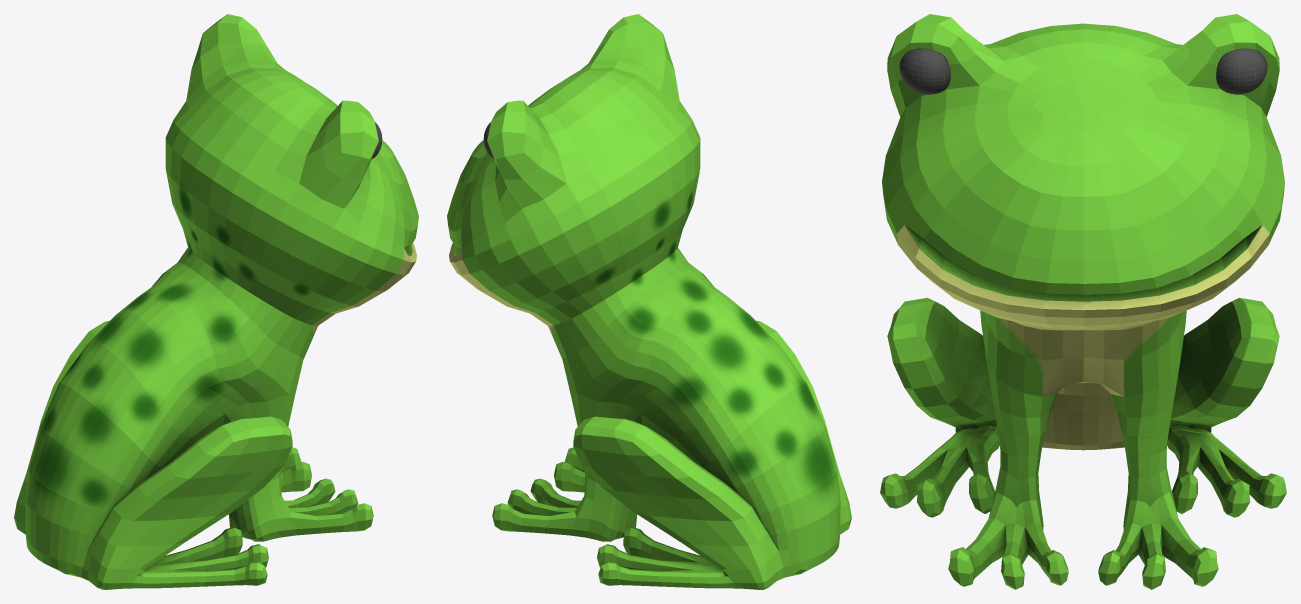
Rendered from Cartoon Frog.obj.
The picture shows the model from 3 angles, left to right: view 1: azimuth 30°, elevation 25°; view 2: azimuth 150°, elevation 25°; view 3: azimuth 270°, elevation 25°; orthographic projection. The views are drawn at different scales.
Parts seen in each view (by area): view 1: Frog; view 2: Frog; view 3: Frog.
Boxes of the visible parts, <box> form: Frog: <box>14,14,418,589</box>; Frog: <box>447,14,851,589</box>; Frog: <box>880,14,1286,589</box>.
Bounding box in the file's own units: 4.82 × 5.57 × 3.69.
1 material, 1 textured.
